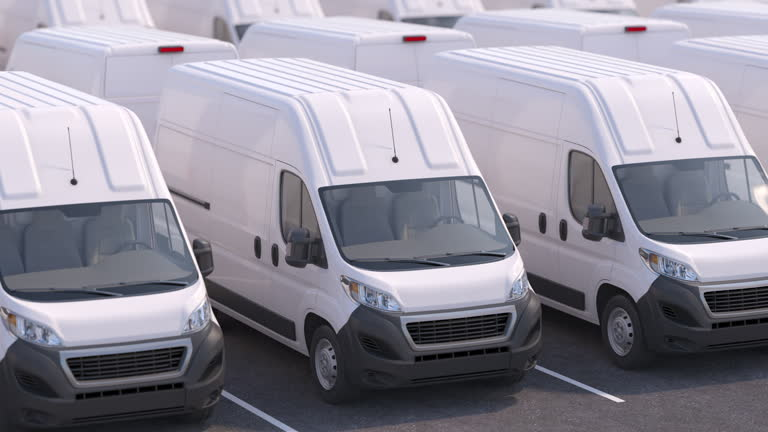Truck: (159, 54, 549, 397), (435, 36, 768, 367), (0, 71, 232, 412)
